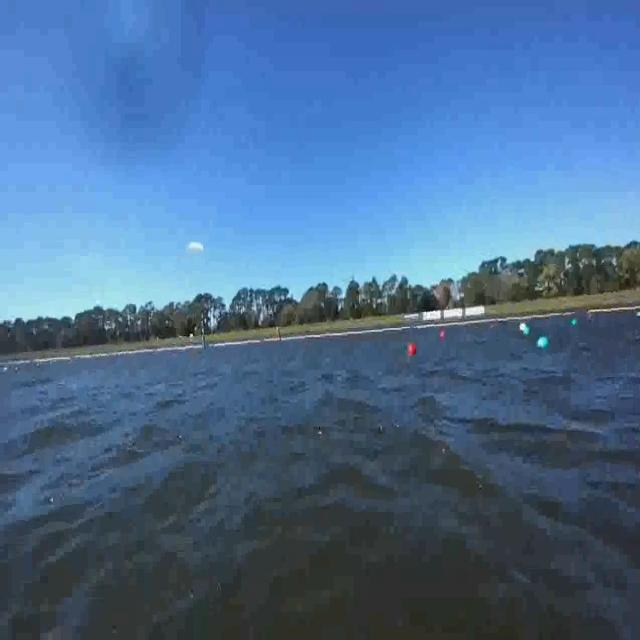green-buoy: (537, 337, 550, 350), (570, 319, 577, 326)
red-buoy: (410, 343, 418, 357), (438, 328, 446, 342)
